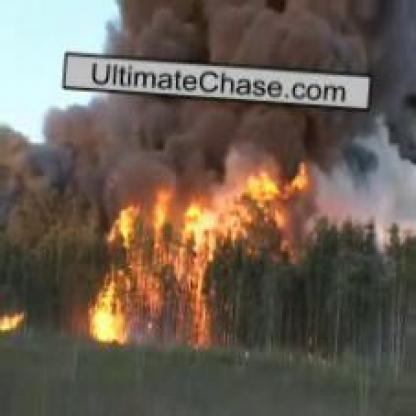fire: (89, 155, 312, 353), (0, 304, 29, 329)
smoke: (36, 4, 404, 190)
